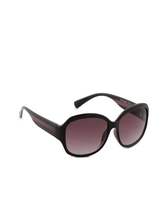glasses: (13, 89, 150, 158)
